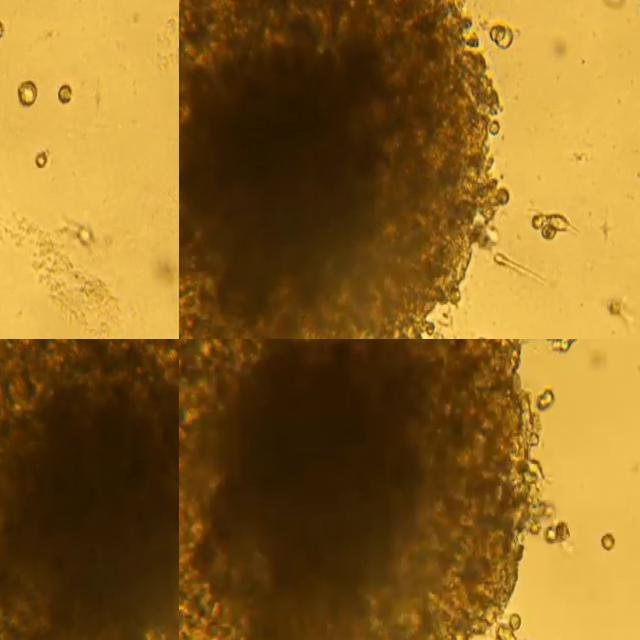cell: (493, 259, 542, 289), (530, 220, 578, 246), (535, 391, 556, 417), (490, 29, 513, 52), (72, 234, 94, 258), (18, 83, 35, 111), (558, 339, 577, 363), (554, 526, 572, 547), (541, 531, 559, 551), (58, 88, 71, 111), (599, 540, 615, 556), (549, 343, 564, 357), (510, 617, 520, 636), (35, 158, 46, 175), (492, 629, 508, 640), (545, 339, 560, 344)
tumor_mass: (179, 339, 554, 640), (179, 0, 510, 339), (0, 339, 179, 640)
